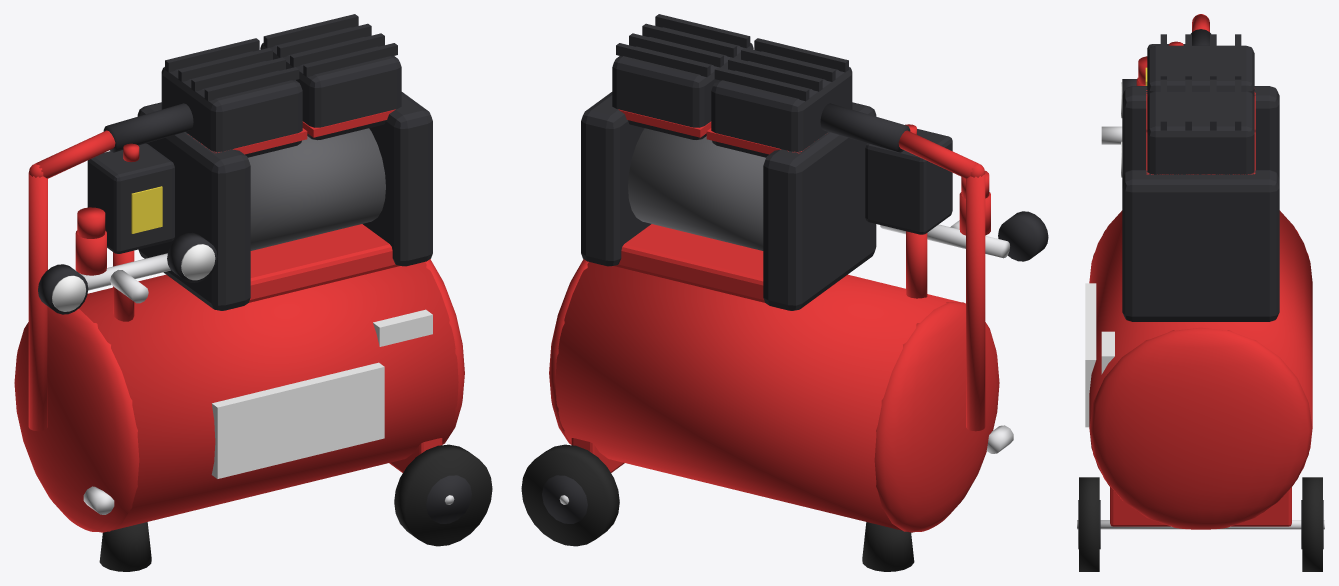
Rendered from compressor_fubag.glb.
3 views of the same model, side by side, from view 1: azimuth 30°, elevation 25°; view 2: azimuth 150°, elevation 25°; view 3: azimuth 270°, elevation 25° (orthographic). The views are drawn at different scales.
Visible parts, largest first — view 1: Receiver_Tank, Receiver_Dome_L, Label_Main, Motor_Drum, Fan_Cover_0, Fan_Cover_1, Cylinder_Head_0, Pump_Saddle, Pressure_Switch, Cylinder_Head_1, Tyre_Wheel_Front, Handle_Tube_V (+27 smaller); view 2: Receiver_Tank, Receiver_Dome_L, Fan_Cover_0, Motor_Drum, Fan_Cover_1, Cylinder_Head_0, Pump_Saddle, Pressure_Switch, Cylinder_Head_1, Tyre_Wheel_Rear, Handle_Tube_V, Handle_Grip (+17 smaller); view 3: Receiver_Dome_R, Fan_Cover_1, Receiver_Tank, Cylinder_Head_1, Fan_Cover_0, Cylinder_Head_0, Tyre_Wheel_Front, Tyre_Wheel_Rear, Wheel_Bracket, Label_Main, Wheel_Axle, Label_Specs (+5 smaller).
Boxes of the visible parts, box(x1,y1,x2,y2) form: Receiver_Tank: box(78, 262, 458, 532); Receiver_Dome_L: box(14, 306, 139, 531); Label_Main: box(211, 362, 384, 478); Motor_Drum: box(248, 128, 385, 250); Fan_Cover_0: box(137, 102, 250, 310); Fan_Cover_1: box(363, 92, 432, 266); Cylinder_Head_0: box(161, 51, 302, 157); Pump_Saddle: box(249, 224, 399, 302); Pressure_Switch: box(87, 143, 174, 253); Cylinder_Head_1: box(260, 27, 401, 140); Tyre_Wheel_Front: box(394, 444, 492, 546); Handle_Tube_V: box(28, 174, 47, 431); Receiver_Tank: box(555, 262, 965, 532); Receiver_Dome_L: box(874, 302, 999, 531); Fan_Cover_0: box(763, 102, 876, 310); Motor_Drum: box(628, 128, 765, 250); Fan_Cover_1: box(581, 92, 650, 266); Cylinder_Head_0: box(711, 51, 852, 157); Pump_Saddle: box(614, 224, 764, 302); Pressure_Switch: box(865, 129, 952, 234); Cylinder_Head_1: box(612, 27, 753, 139); Tyre_Wheel_Rear: box(521, 444, 619, 546); Handle_Tube_V: box(966, 174, 985, 431); Handle_Grip: box(820, 103, 910, 152); Receiver_Dome_R: box(1089, 327, 1312, 529); Fan_Cover_1: box(1122, 170, 1279, 321); Receiver_Tank: box(1089, 210, 1312, 512); Cylinder_Head_1: box(1147, 91, 1254, 174); Fan_Cover_0: box(1122, 86, 1279, 178); Cylinder_Head_0: box(1147, 45, 1254, 97); Tyre_Wheel_Front: box(1079, 477, 1099, 571); Tyre_Wheel_Rear: box(1302, 477, 1322, 571); Wheel_Bracket: box(1110, 487, 1291, 526); Label_Main: box(1085, 283, 1096, 427); Wheel_Axle: box(1077, 520, 1324, 529); Label_Specs: box(1101, 331, 1114, 374).
Bounding box in the file's own units: 0.5538 × 0.591 × 0.3.
